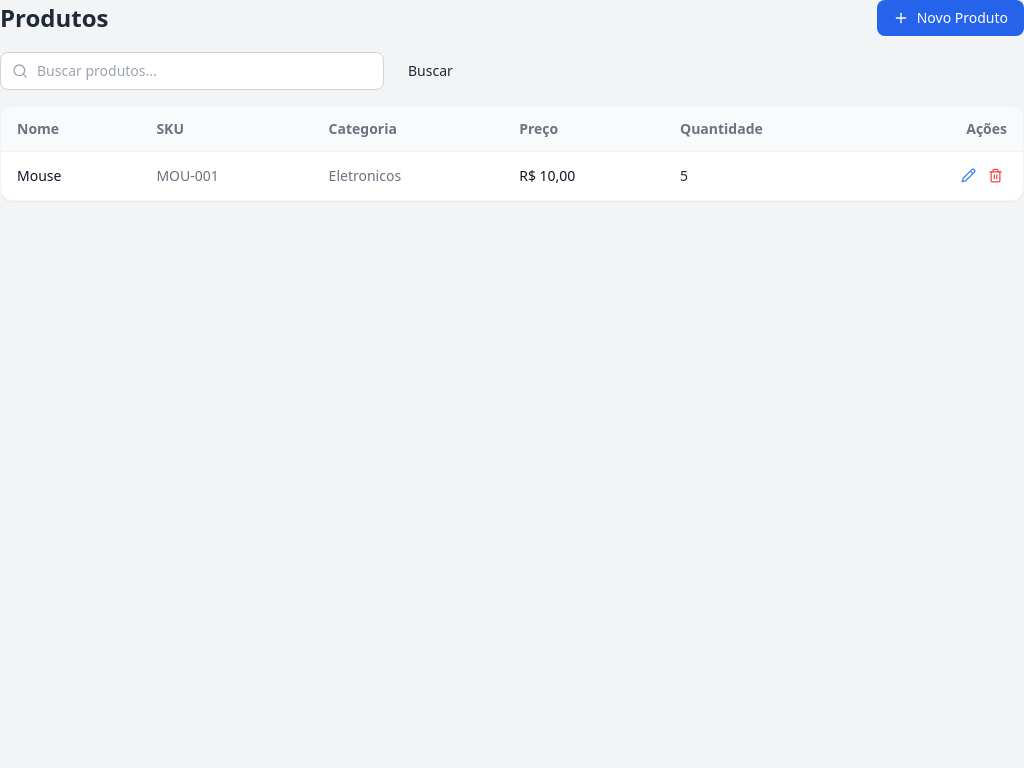
ProdutosPage › deve abrir modal ao clicar em Novo Produto
Expected: the text "Mouse" is shown, [17,166,61,186]
Click the button "Novo Produto": [950, 18] box [877,0,1023,36]
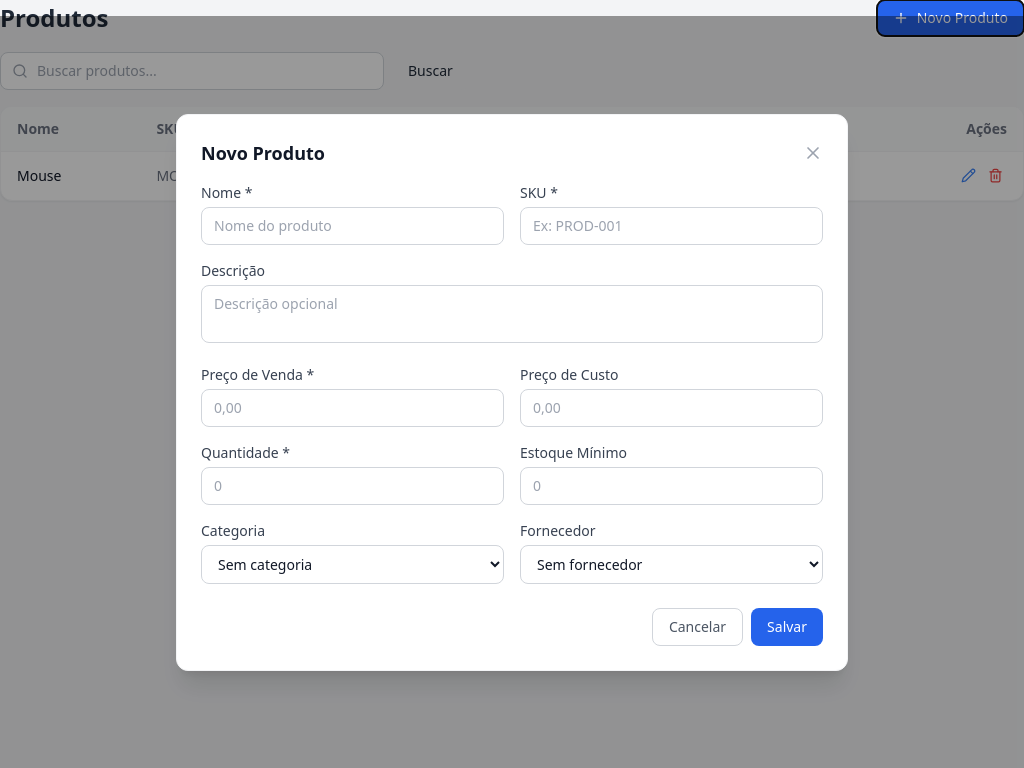
Result: the heading "Novo Produto" is shown at [201,138,325,166]
